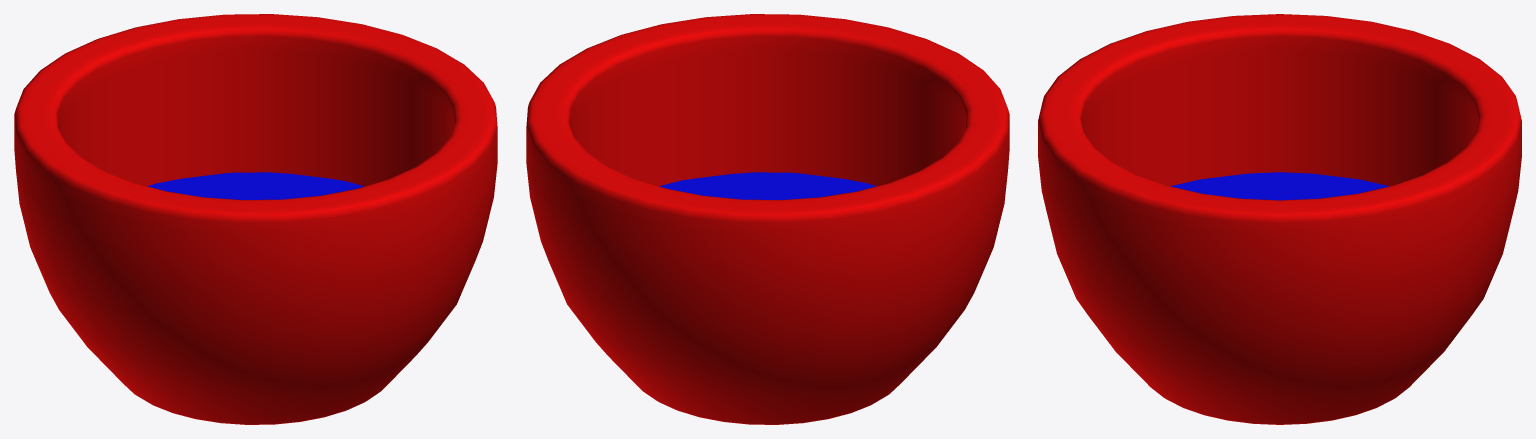
File: nudeln_high.fbx
3 renders of one model, left to right at view 1: azimuth 30°, elevation 25°; view 2: azimuth 150°, elevation 25°; view 3: azimuth 270°, elevation 25°, orthographic.
Visible parts, largest first — view 1: pPipe1, pCylinder2; view 2: pPipe1, pCylinder2; view 3: pPipe1, pCylinder2.
Part boxes in pixels (x1,y1,x2,y2): pPipe1: (14,14,497,424); pCylinder2: (147,172,364,199); pPipe1: (526,14,1009,424); pCylinder2: (659,172,876,199); pPipe1: (1038,14,1521,424); pCylinder2: (1170,172,1389,200).
Size of the model in its own units: 0.4905 by 0.2844 by 0.4905.
